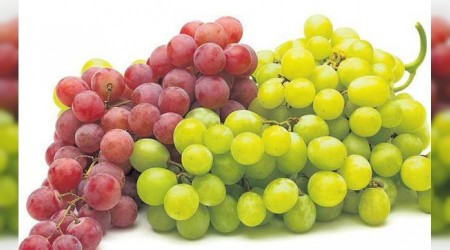Grape: (3, 24, 249, 250), (231, 8, 435, 240), (124, 108, 273, 250)
